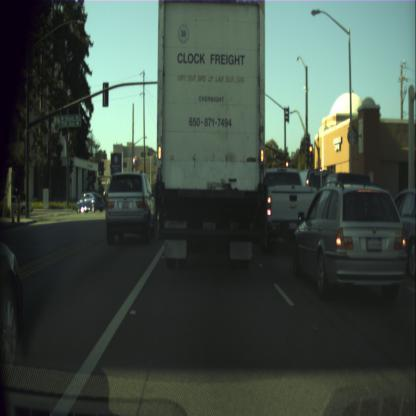Green: (99, 162, 102, 174)
Red: (308, 144, 313, 164), (285, 160, 288, 176)
